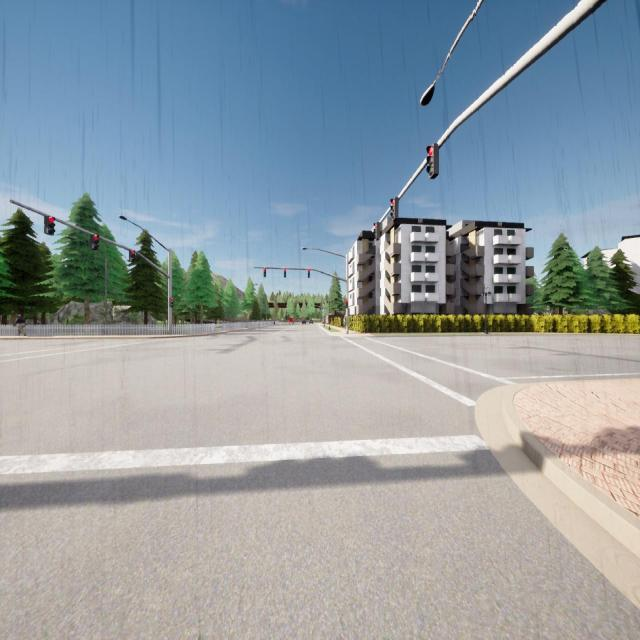Pedestrian: (14, 313, 26, 337)
Vehicle: (288, 317, 295, 325), (302, 319, 306, 325), (308, 320, 314, 324)
traffic_light: (426, 143, 439, 179), (44, 216, 55, 235), (391, 198, 398, 221), (90, 234, 100, 250), (373, 222, 380, 241), (129, 250, 135, 262), (263, 268, 266, 278), (170, 297, 173, 307), (346, 298, 348, 308), (308, 268, 310, 278), (284, 268, 286, 277)
